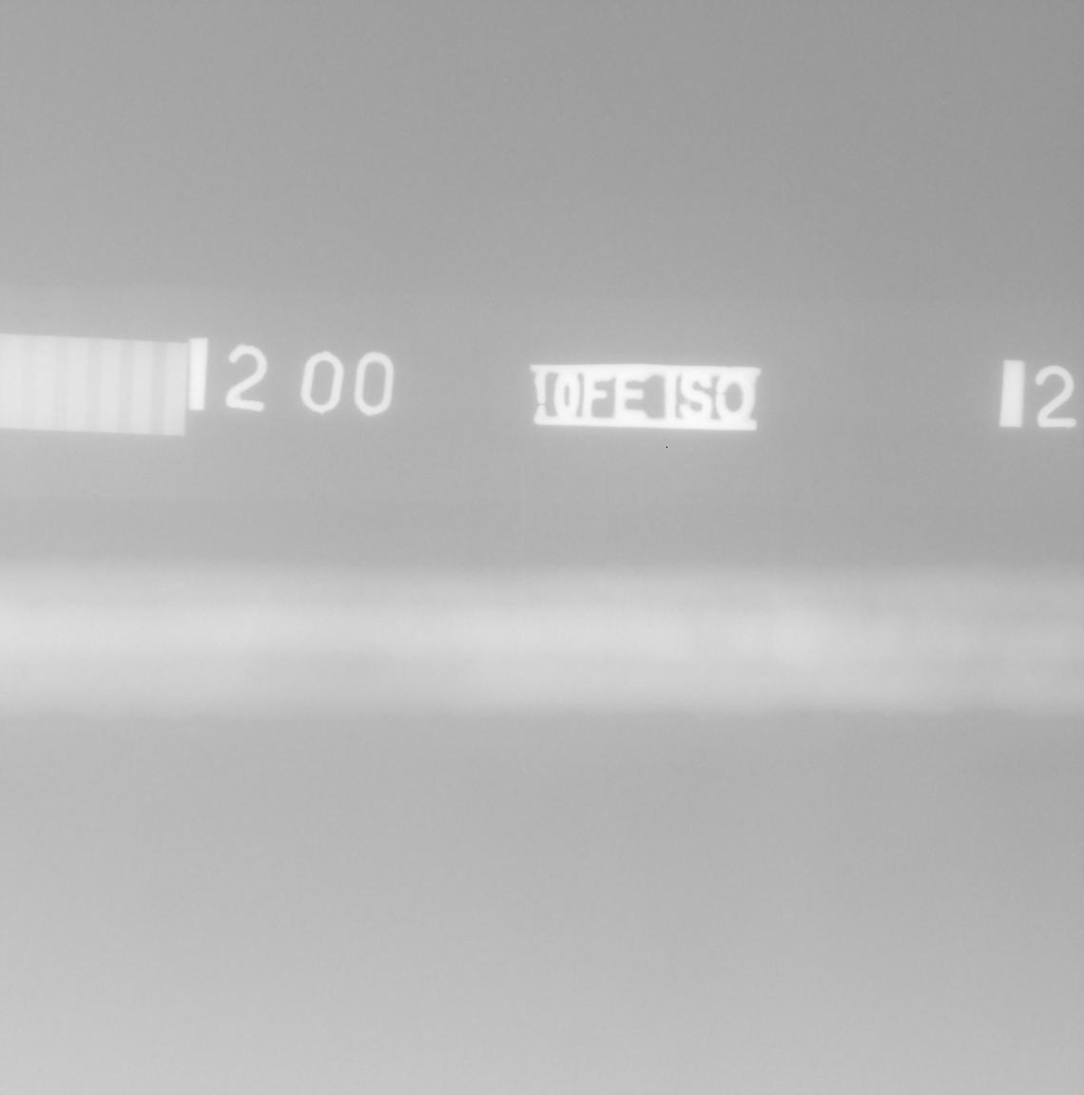Inclusion: (610, 682, 615, 688), (621, 681, 626, 685)
